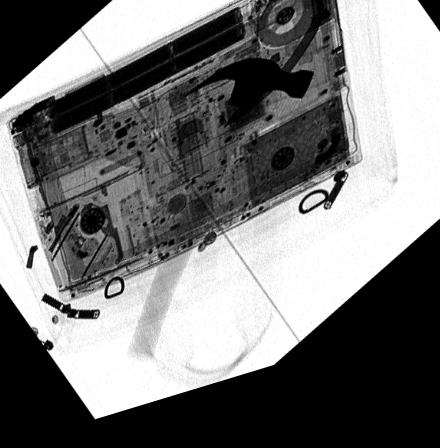Hammer: (124, 71, 315, 365)
